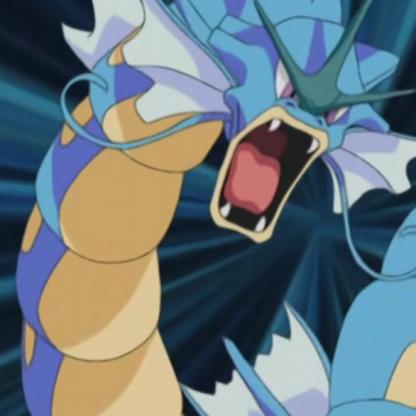Gyarados: (1, 1, 416, 416)
